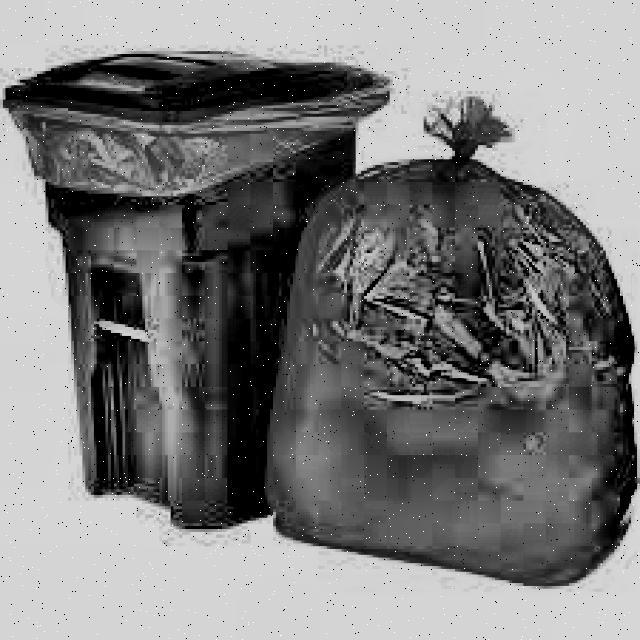Trashbag: (260, 93, 635, 594)
